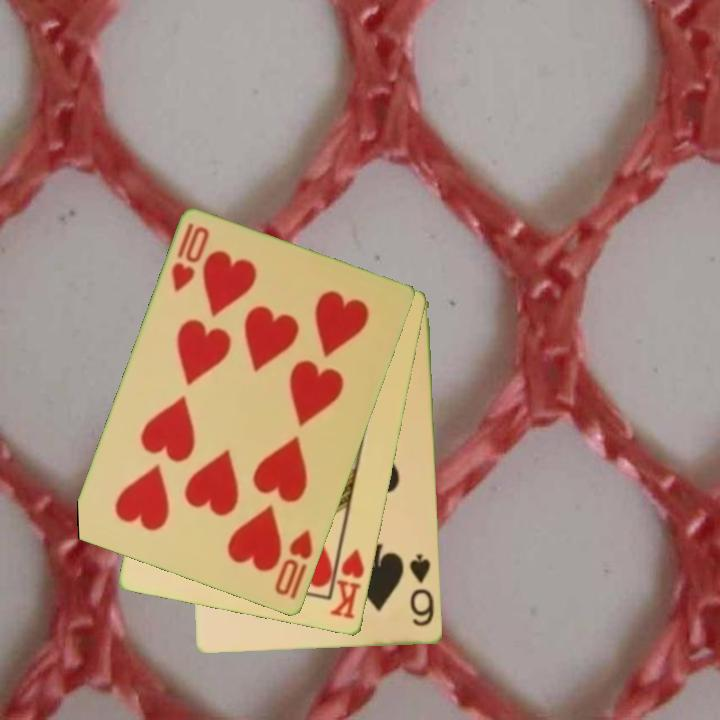10h: (168, 220, 213, 296), (271, 527, 316, 599)
6s: (406, 551, 437, 630)
Kh: (327, 538, 368, 622)
